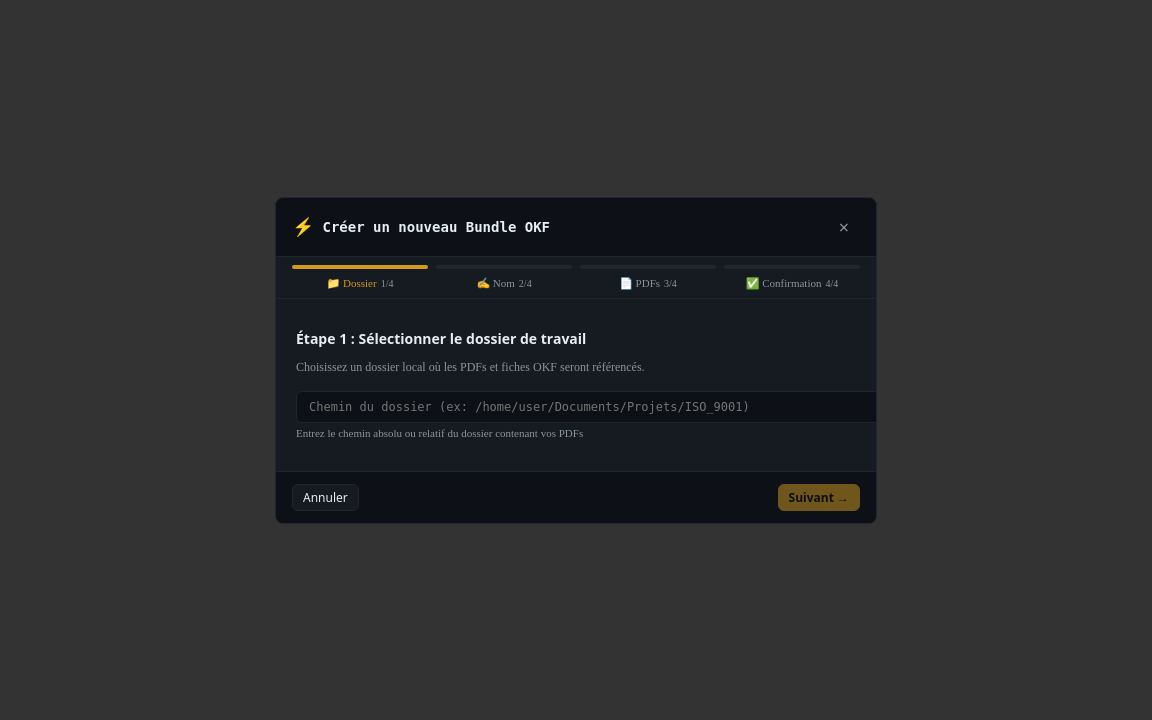
Test: InitializerModal — 4-step wizard with 2+ PDFs and custom page ranges › cannot proceed past the PDFs step with zero files selected
Replace the text in the field with placeholder "Chemin du dossier" with "/tmp/my-bundle" at (589, 406), box [296, 390, 882, 422]
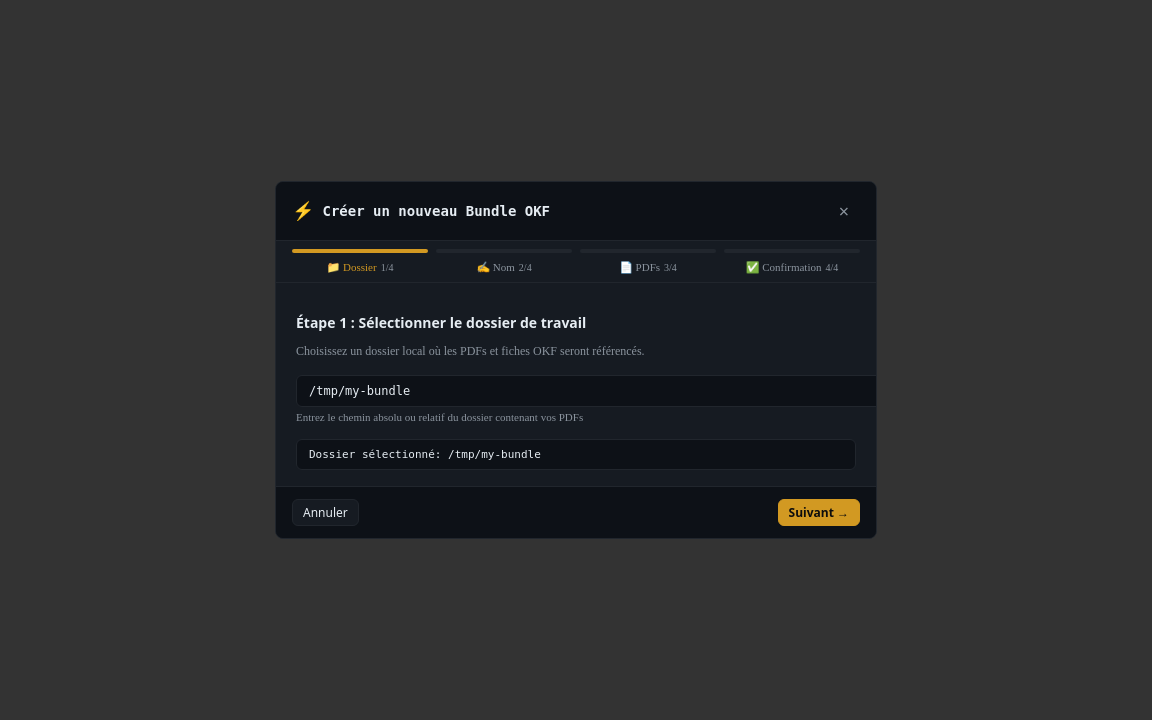
Click the button "Suivant →".
click(819, 512)  # box [778, 499, 860, 526]
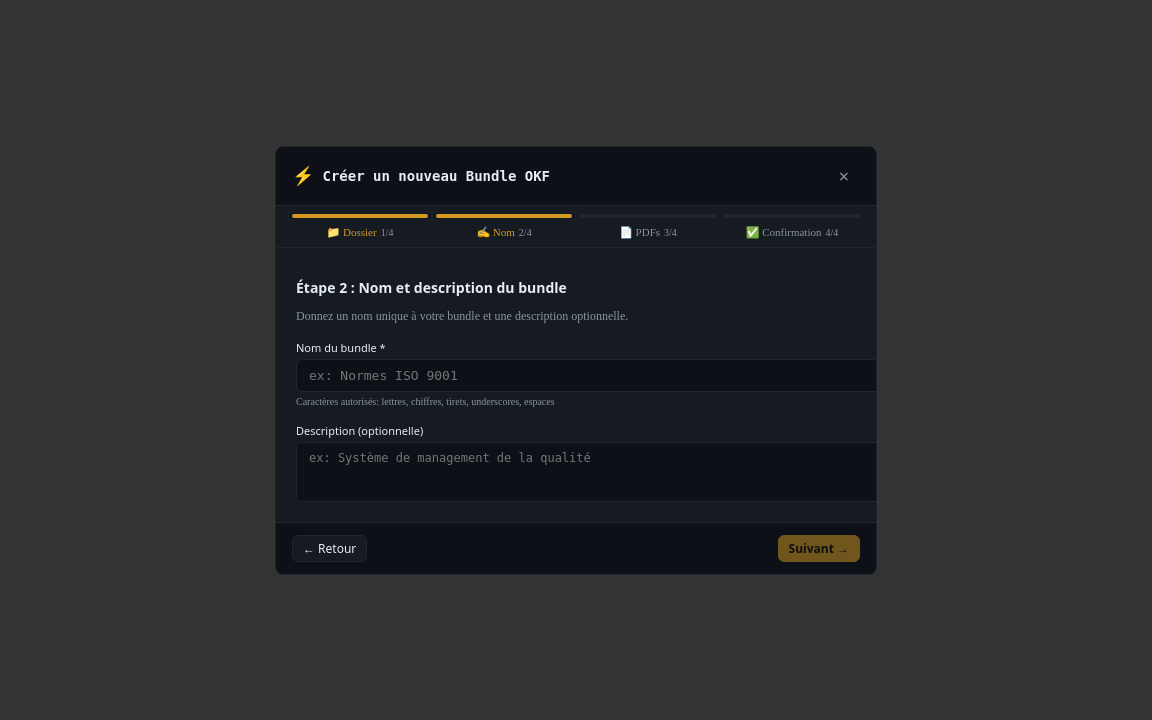
Type "Multi PDF Bundle" into the field with placeholder "ex: Normes ISO 9001".
click(589, 375); type("Multi PDF Bundle")  # box [296, 358, 882, 392]
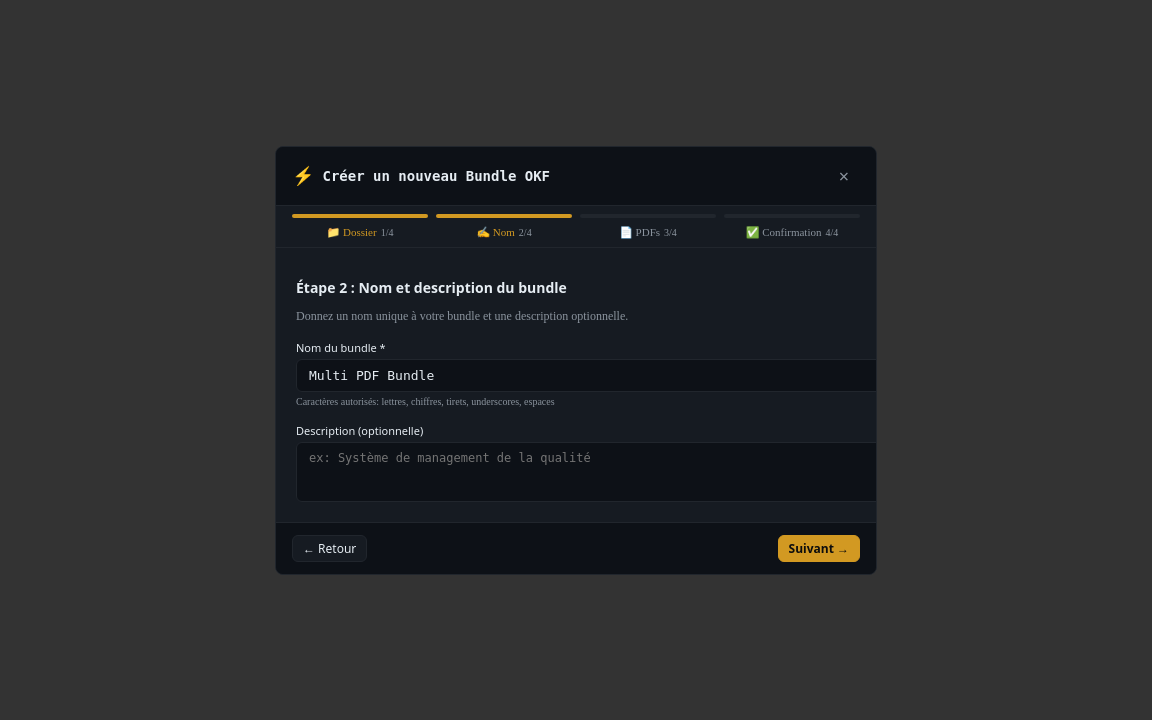
Click the button "Suivant →".
click(819, 548)  # box [778, 534, 860, 562]
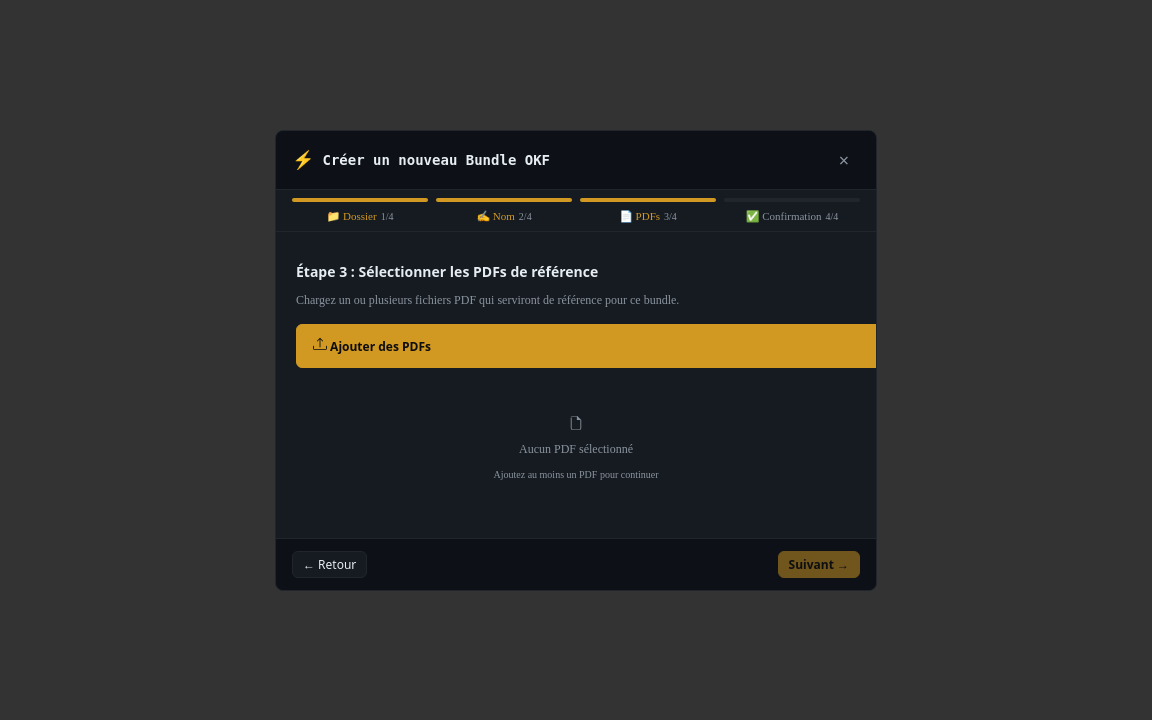
Check: the text "Aucun PDF sélectionné" is shown, box [519, 442, 633, 456]
Check: the button "Suivant →" is disabled, box [778, 550, 860, 578]
